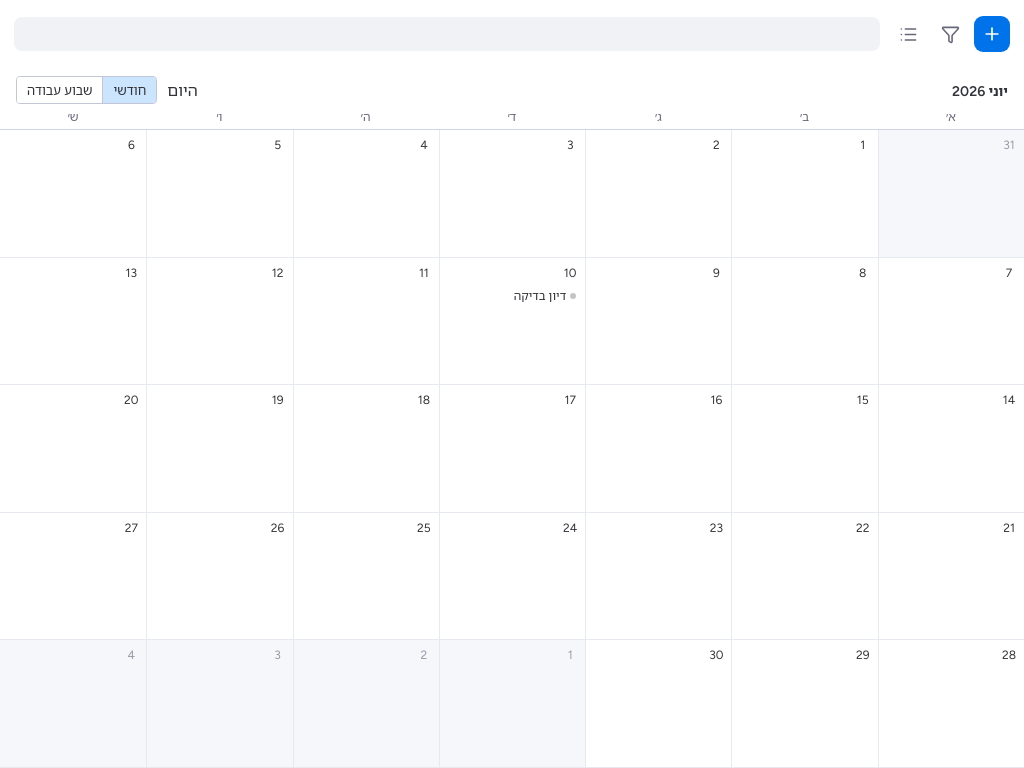
DiscussionList calendar view header › calendar header: offers search + type filter, hides the month filter
# open the filter popover
Click the button named "סינון".
click(950, 34)  # box [932,16,968,52]
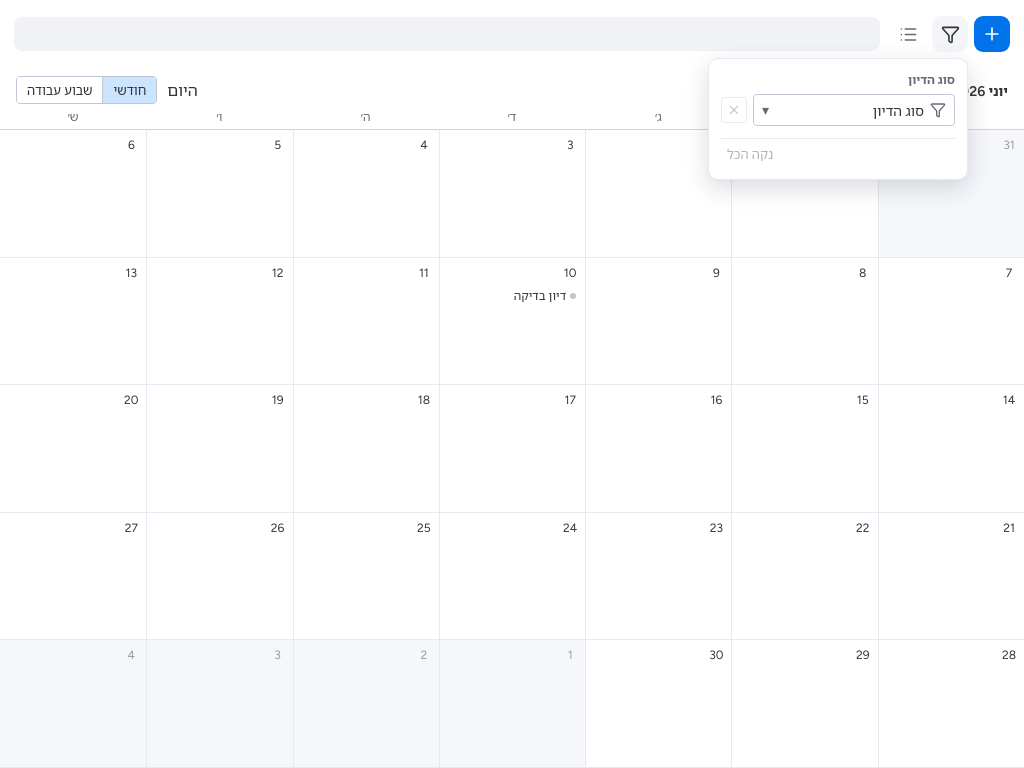
expect the button with aria-label "סינון לפי סוג" is shown: met, box [753,94,955,126]
